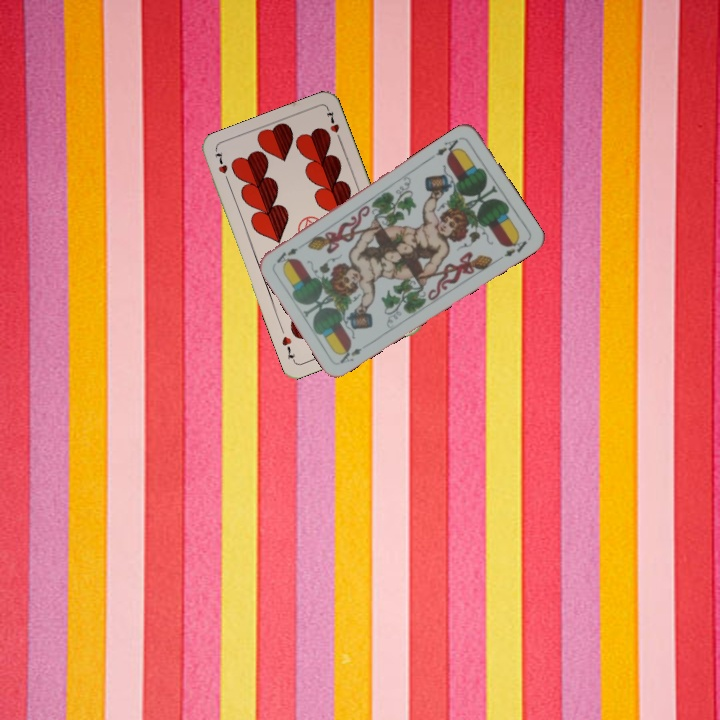EA: (432, 135, 464, 159), (335, 343, 364, 366)
H7: (211, 147, 232, 186)
